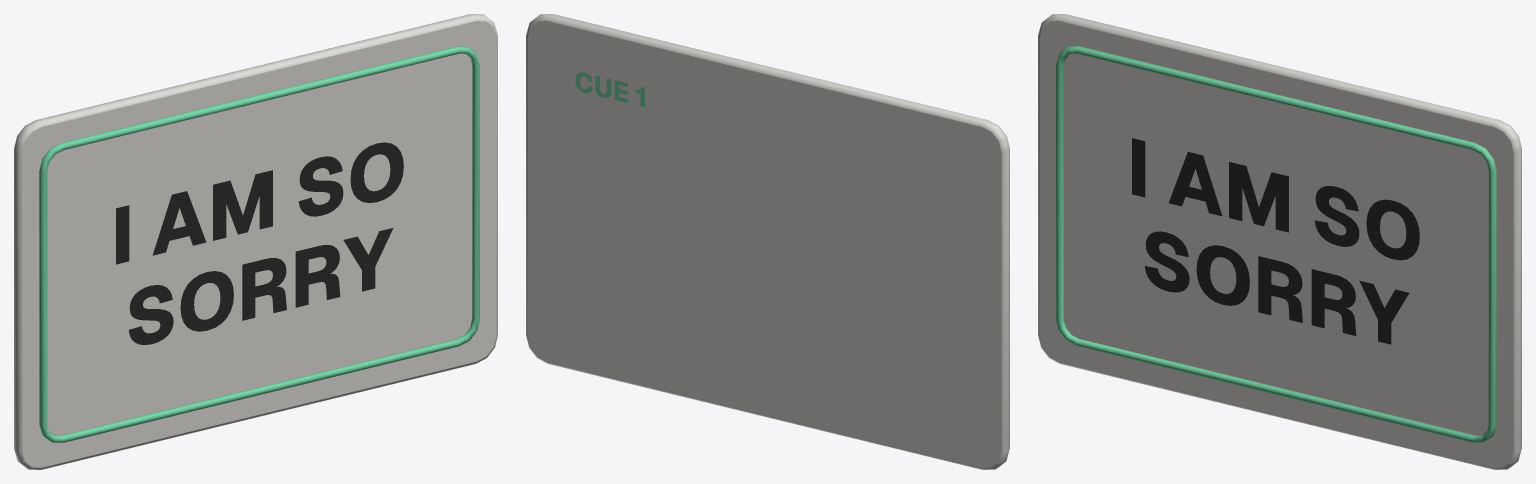
Rendered from cue-card-sorry.glb.
The picture shows the model from 3 angles, left to right: view 1: azimuth 30°, elevation 25°; view 2: azimuth 150°, elevation 25°; view 3: azimuth 330°, elevation 25°; orthographic projection.
Visible parts, largest first — view 1: cue-card-sorry-card; view 2: cue-card-sorry-card; view 3: cue-card-sorry-card.
Part boxes in pixels (x1,y1,x2,y2): cue-card-sorry-card: (14,14,497,469); cue-card-sorry-card: (526,14,1009,469); cue-card-sorry-card: (1038,14,1521,469).
Bounding box in the file's own units: 0.52 × 0.36 × 0.0177.
